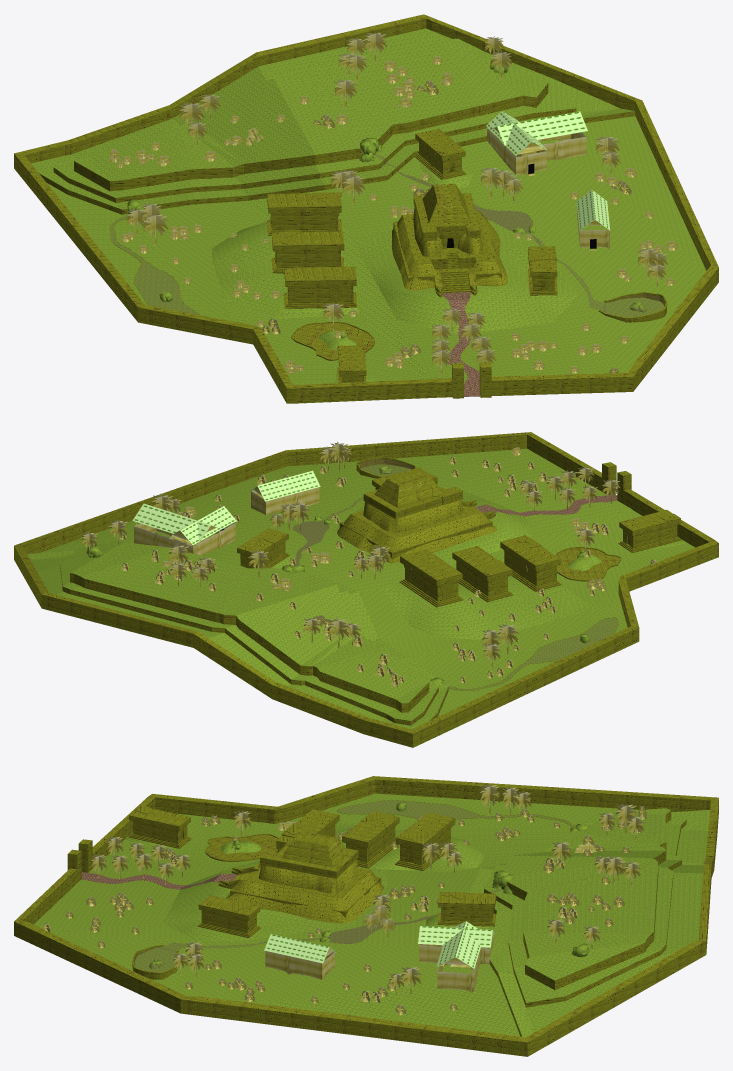
Rendered from Tempel_des_Lebens.dae.
3 renders of one model, top to bottom at view 1: azimuth 30°, elevation 25°; view 2: azimuth 150°, elevation 25°; view 3: azimuth 270°, elevation 25°, orthographic. The views are drawn at different scales.
Visible parts, largest first — view 1: Group32, Group23, Group22, Tsa (×6), Group10, Group8, Group17, Dach_standard (×3), Group30, Group15, Group29, Group27 (+6 smaller); view 2: Group32, Group23, Group22, Tsa (×5), Group8, Dach_standard (×3), Group15, Group17, Group10, Group29, Group30, Group13 (+9 smaller); view 3: Group32, Group23, Group22, Tsa (×6), Group10, Group15, Dach_standard (×3), Group17, Group30, Group29, Group8, Group13 (+7 smaller).
Boxes of the visible parts, x1=… form: Group32: x1=17, y1=95, x2=706, y2=403; Group23: x1=31, y1=28, x2=635, y2=214; Group22: x1=14, y1=14, x2=718, y2=403; Tsa (×6): x1=266, y1=128, x2=557, y2=382; Group10: x1=352, y1=223, x2=577, y2=333; Group8: x1=212, y1=216, x2=358, y2=321; Group17: x1=393, y1=193, x2=501, y2=292; Dach_standard (×3): x1=486, y1=111, x2=610, y2=230; Group30: x1=374, y1=154, x2=667, y2=322; Group15: x1=391, y1=212, x2=507, y2=290; Group29: x1=109, y1=213, x2=199, y2=314; Group27: x1=291, y1=321, x2=374, y2=360; Group32: x1=40, y1=448, x2=694, y2=744; Group23: x1=27, y1=541, x2=448, y2=729; Group22: x1=14, y1=432, x2=718, y2=747; Tsa (×5): x1=237, y1=510, x2=676, y2=607; Group8: x1=381, y1=575, x2=595, y2=639; Dach_standard (×3): x1=132, y1=470, x2=320, y2=545; Group15: x1=337, y1=512, x2=496, y2=563; Group17: x1=339, y1=473, x2=492, y2=559; Group10: x1=328, y1=489, x2=531, y2=568; Group29: x1=449, y1=617, x2=618, y2=690; Group30: x1=293, y1=456, x2=416, y2=566; Group13: x1=363, y1=500, x2=463, y2=533; Group32: x1=33, y1=793, x2=672, y2=1036; Group23: x1=468, y1=808, x2=710, y2=1037; Group22: x1=14, y1=776, x2=718, y2=1056; Tsa (×6): x1=128, y1=808, x2=496, y2=937; Group10: x1=162, y1=861, x2=386, y2=941; Group15: x1=225, y1=864, x2=383, y2=923; Dach_standard (×3): x1=264, y1=921, x2=494, y2=968; Group17: x1=230, y1=845, x2=381, y2=917; Group30: x1=132, y1=887, x2=503, y2=979; Group29: x1=337, y1=800, x2=574, y2=829; Group8: x1=335, y1=822, x2=484, y2=871; Group13: x1=259, y1=849, x2=358, y2=893.
Size of the model in its own units: 135 by 149 by 25.36.
